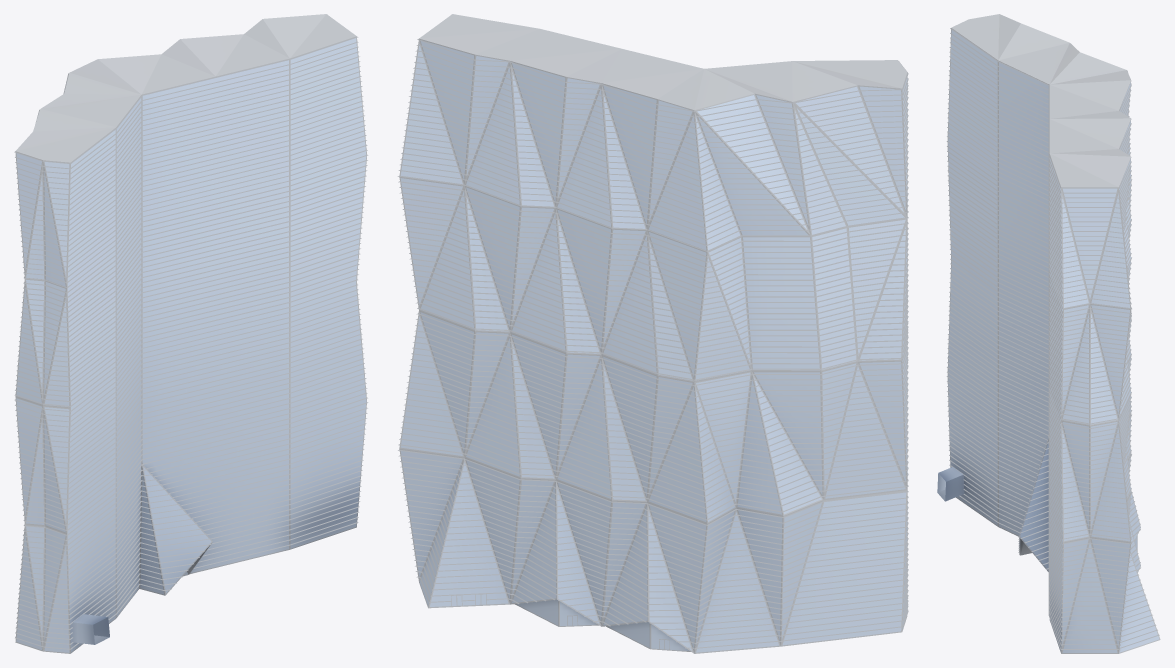
3 renders of one model, left to right at view 1: azimuth 30°, elevation 25°; view 2: azimuth 150°, elevation 25°; view 3: azimuth 270°, elevation 25°, orthographic. The views are drawn at different scales.
Parts seen in each view (by area): view 1: 70030076431357692; view 2: 70030076431357692; view 3: 70030076431357692.
Part boxes in pixels (x1=…): 70030076431357692: x1=14, y1=14, x2=368, y2=653; 70030076431357692: x1=397, y1=14, x2=908, y2=653; 70030076431357692: x1=937, y1=14, x2=1160, y2=653.
Size of the model in its own units: 121 by 148 by 63.45.
Materials: 1 (1 with a texture image).
